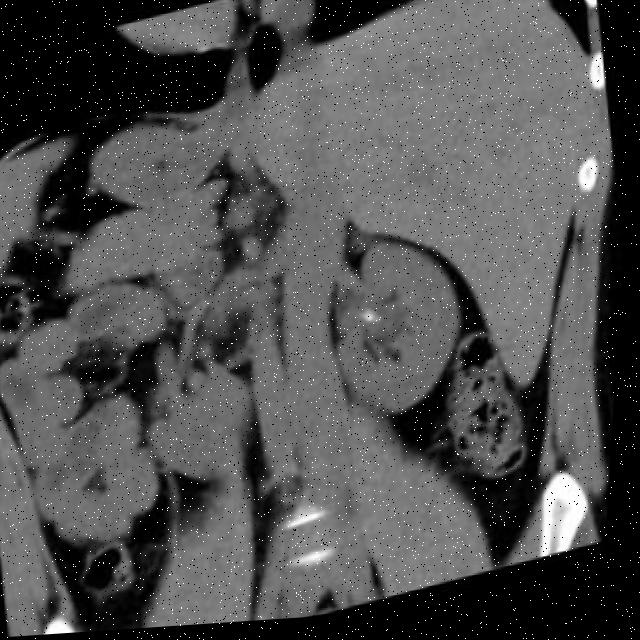Tas_Var: (367, 313, 381, 330)
